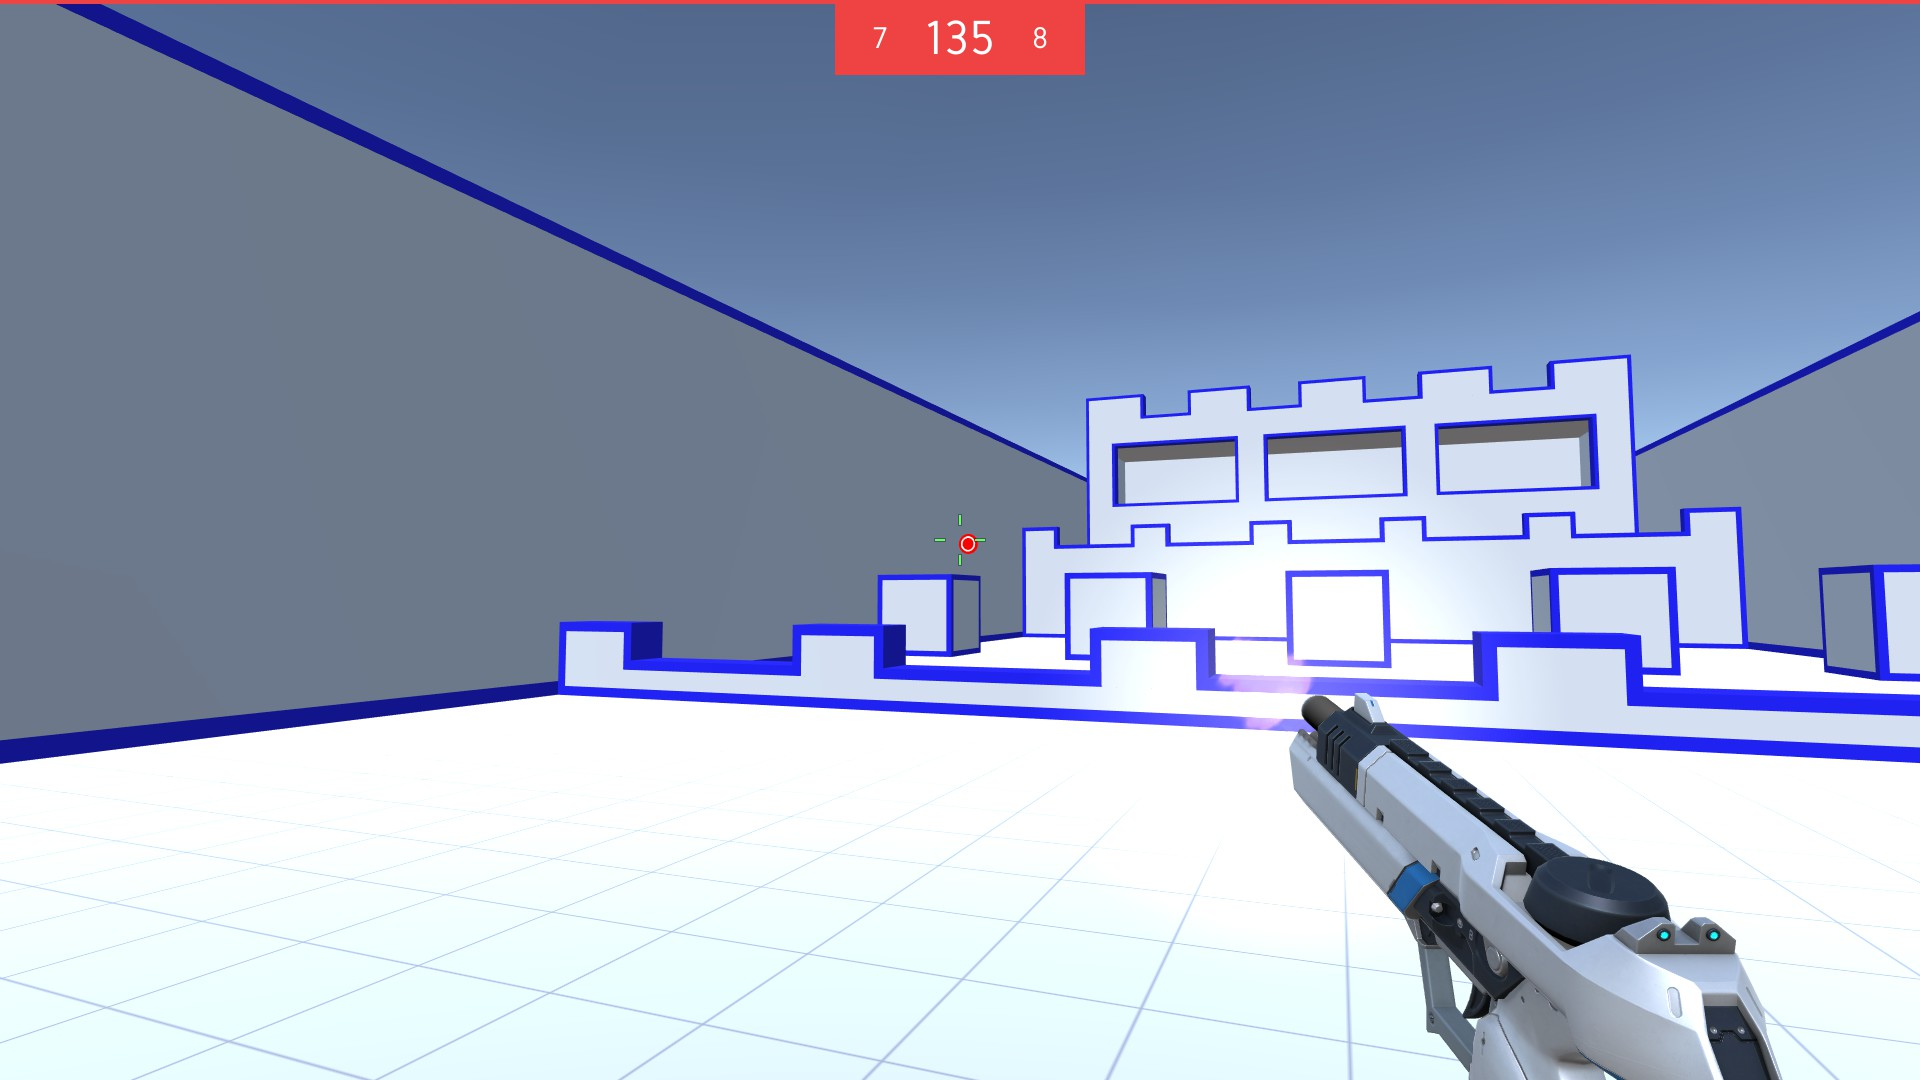target: (957, 531, 978, 556)
